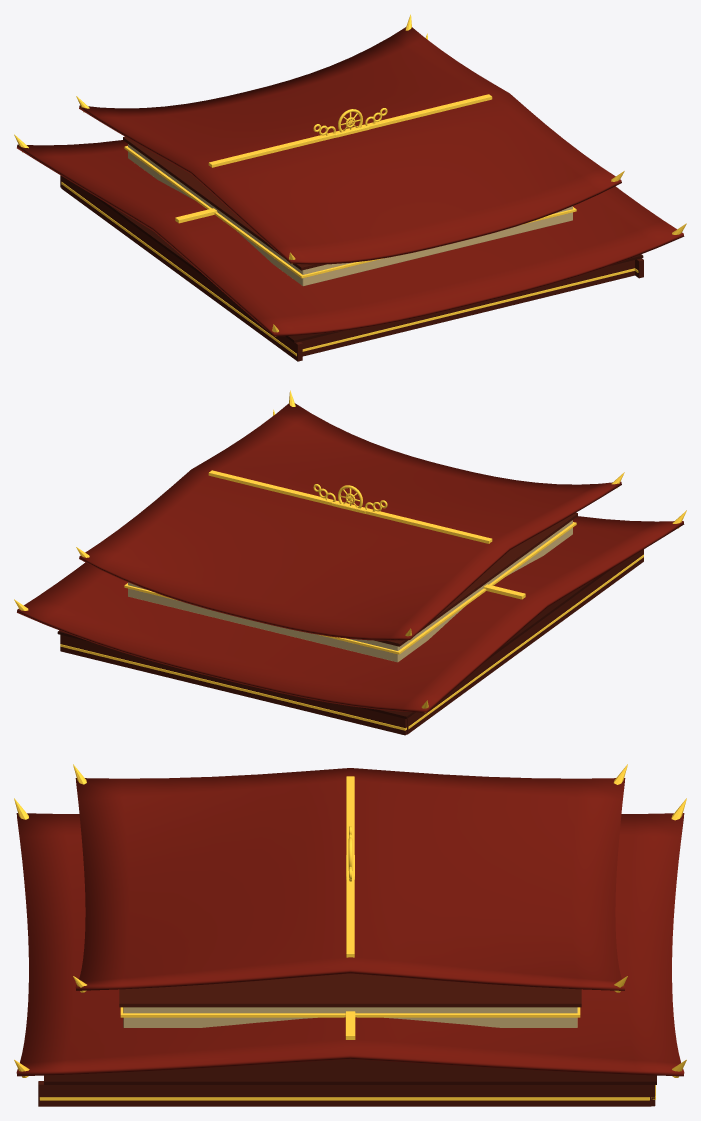
Rendered from mai_chanh_dien.glb.
The picture shows the model from 3 angles, top to bottom: view 1: azimuth 30°, elevation 25°; view 2: azimuth 150°, elevation 25°; view 3: azimuth 270°, elevation 25°; orthographic projection. The views are drawn at different scales.
Parts seen in each view (by area): view 1: mai_chanh_dien; view 2: mai_chanh_dien; view 3: mai_chanh_dien.
Boxes of the visible parts, x1,y1,x2,y2 form: mai_chanh_dien: (14,14,686,361); mai_chanh_dien: (14,390,686,735); mai_chanh_dien: (14,764,686,1106).
Size of the model in its own units: 43.62 by 12.28 by 47.42.
